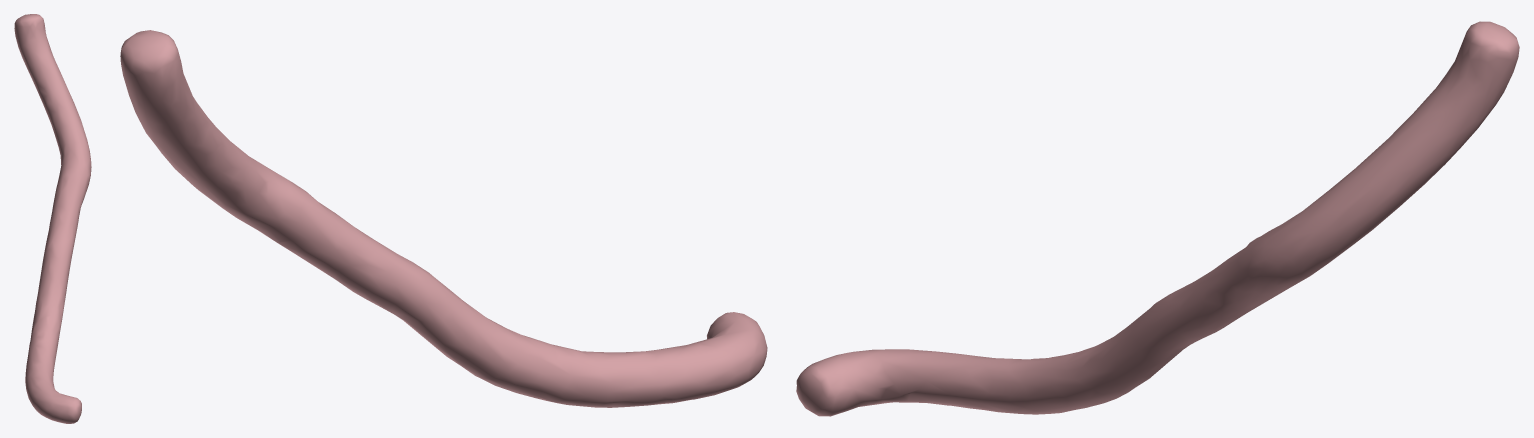
File: fma276311_mm1066.glb
3 renders of one model, left to right at view 1: azimuth 30°, elevation 25°; view 2: azimuth 150°, elevation 25°; view 3: azimuth 270°, elevation 25°, orthographic. The views are drawn at different scales.
Visible parts, largest first — view 1: FMA276311_MM1066; view 2: FMA276311_MM1066; view 3: FMA276311_MM1066.
Boxes of the visible parts, <box> form: FMA276311_MM1066: <box>14,14,91,423</box>; FMA276311_MM1066: <box>120,30,767,407</box>; FMA276311_MM1066: <box>796,21,1519,416</box>.
Size of the model in its own units: 0.0243 by 0.0359 by 0.0461.
